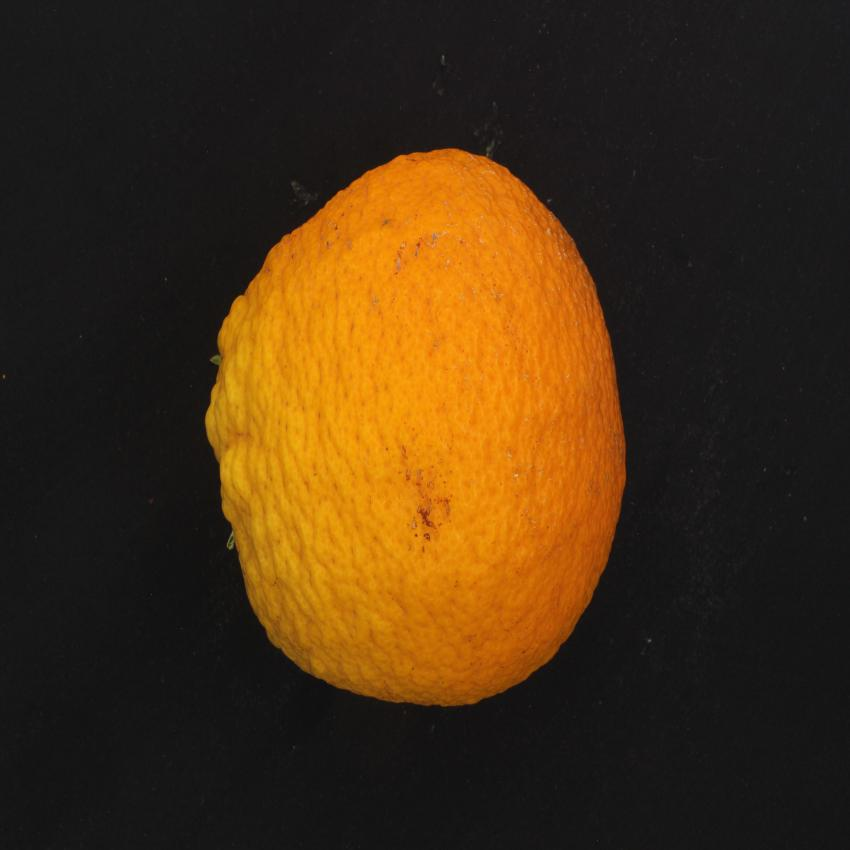Buen estado: (196, 134, 638, 723)
